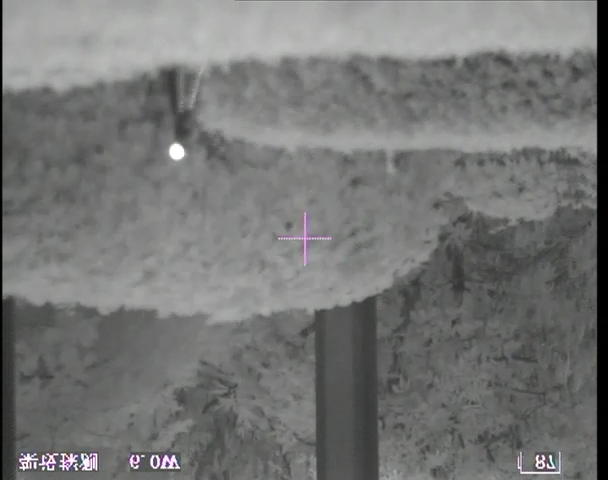my: (168, 142, 185, 161)
